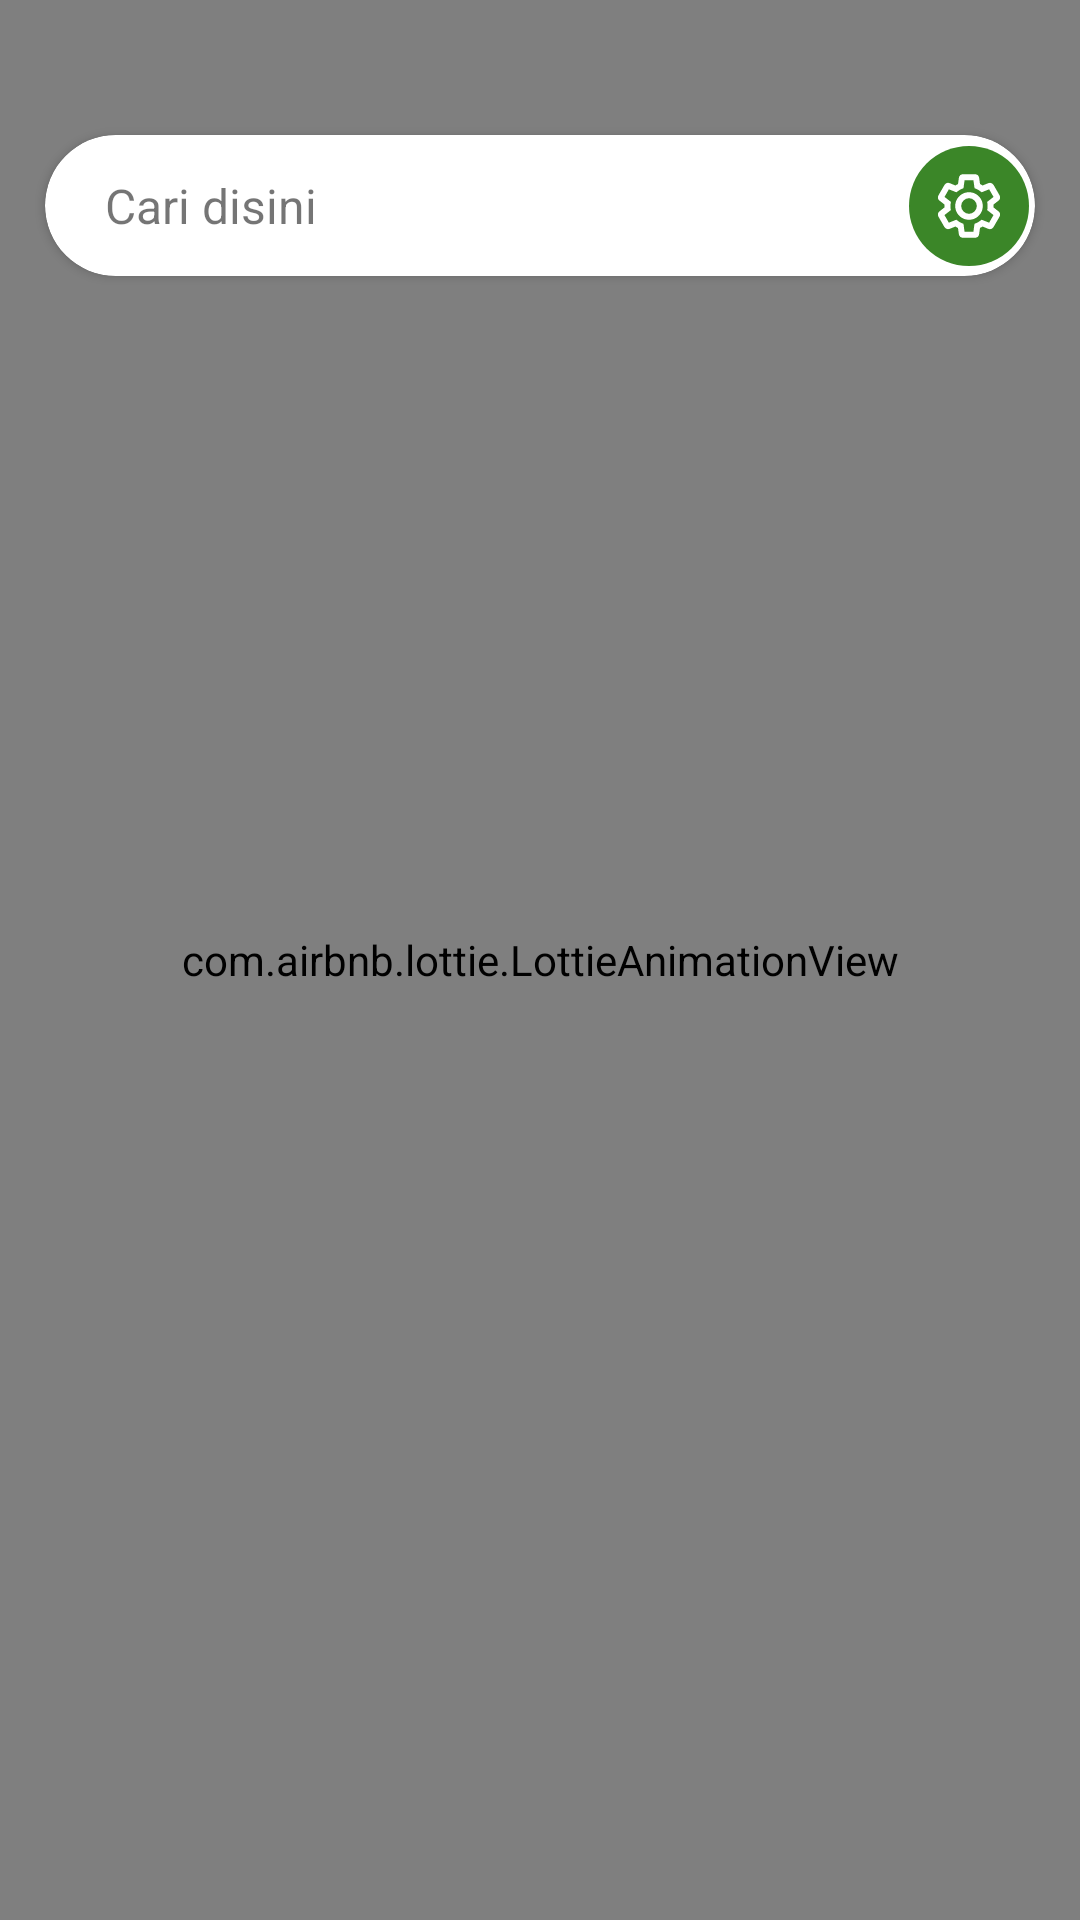

Screen size 1080 x 1920. Icon name, then its center in pixels as (x,y):
Settings: (969,206)
